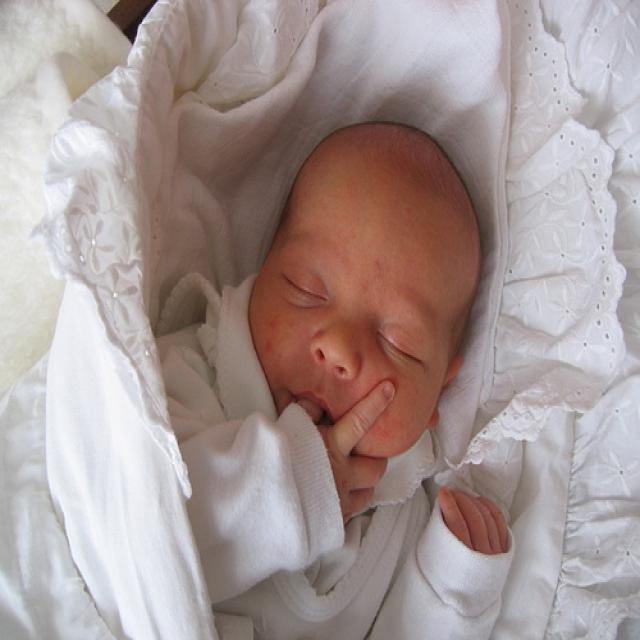person: (150, 122, 516, 639)
